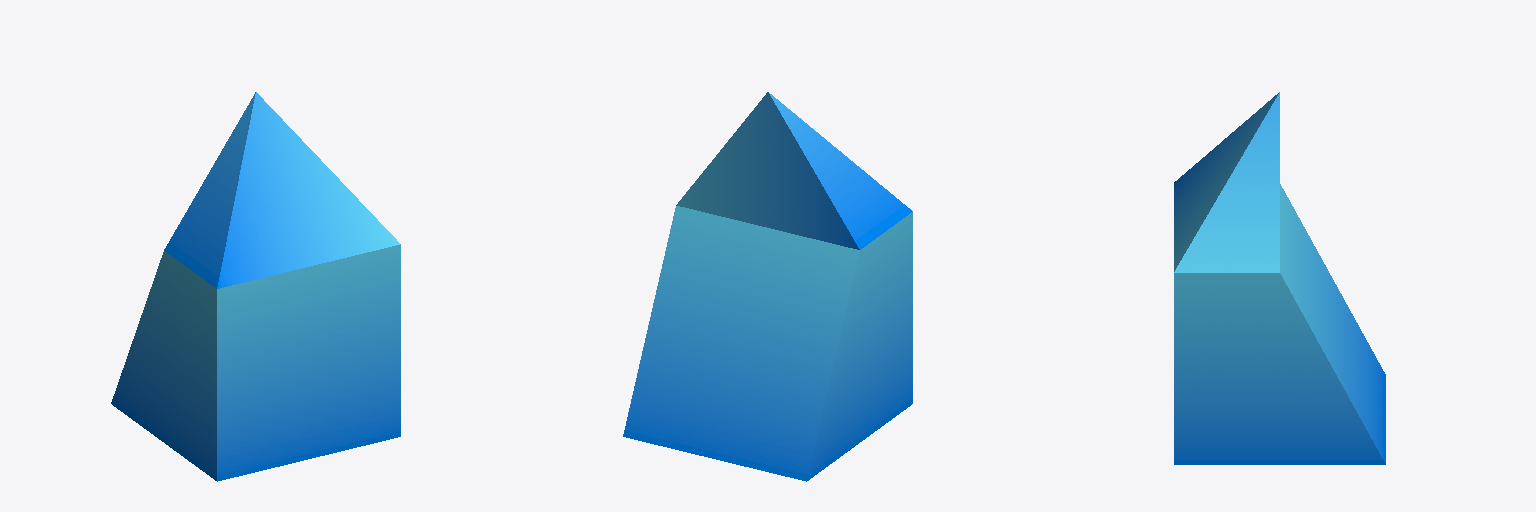
3 views of the same model, side by side, from view 1: azimuth 30°, elevation 25°; view 2: azimuth 150°, elevation 25°; view 3: azimuth 270°, elevation 25° (orthographic).
Visible parts, largest first — view 1: Box001; view 2: Box001; view 3: Box001.
Boxes of the visible parts, x1=… form: Box001: x1=111, y1=92, x2=400, y2=481; Box001: x1=623, y1=92, x2=912, y2=481; Box001: x1=1174, y1=92, x2=1385, y2=464.
Bounding box in the file's own units: 0.7 × 1.2 × 0.7.
Materials: 1 (1 with a texture image).